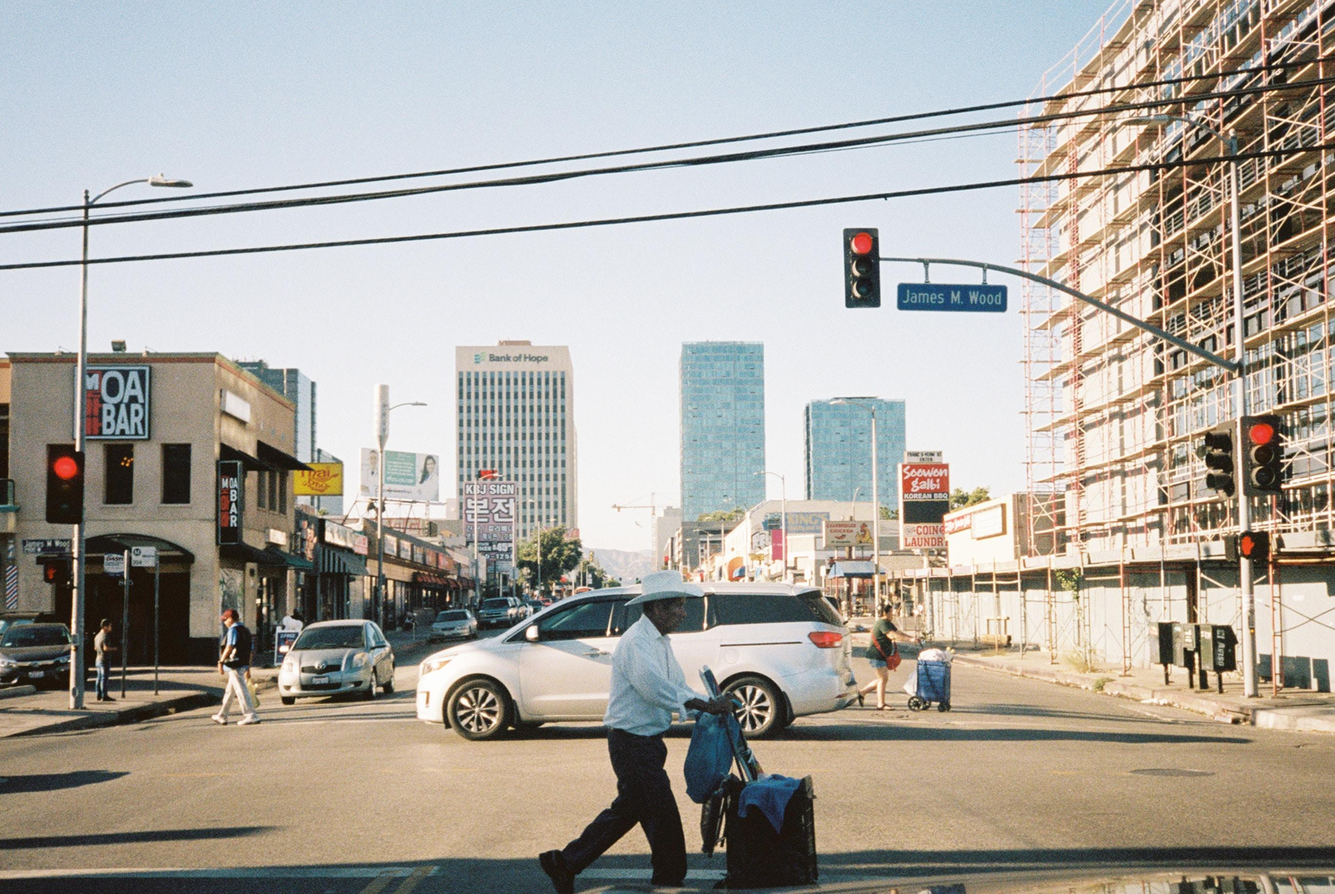red: (826, 222, 889, 334)
